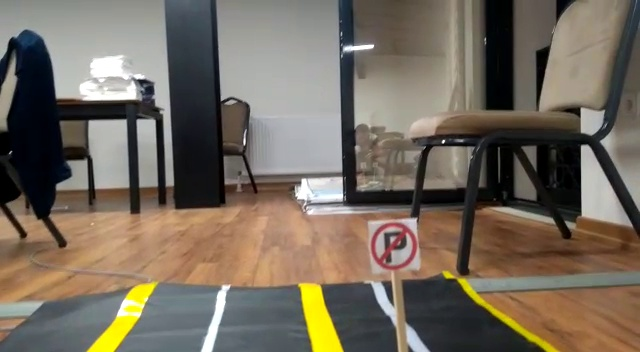park_yapilmaz: (368, 221, 418, 269)
